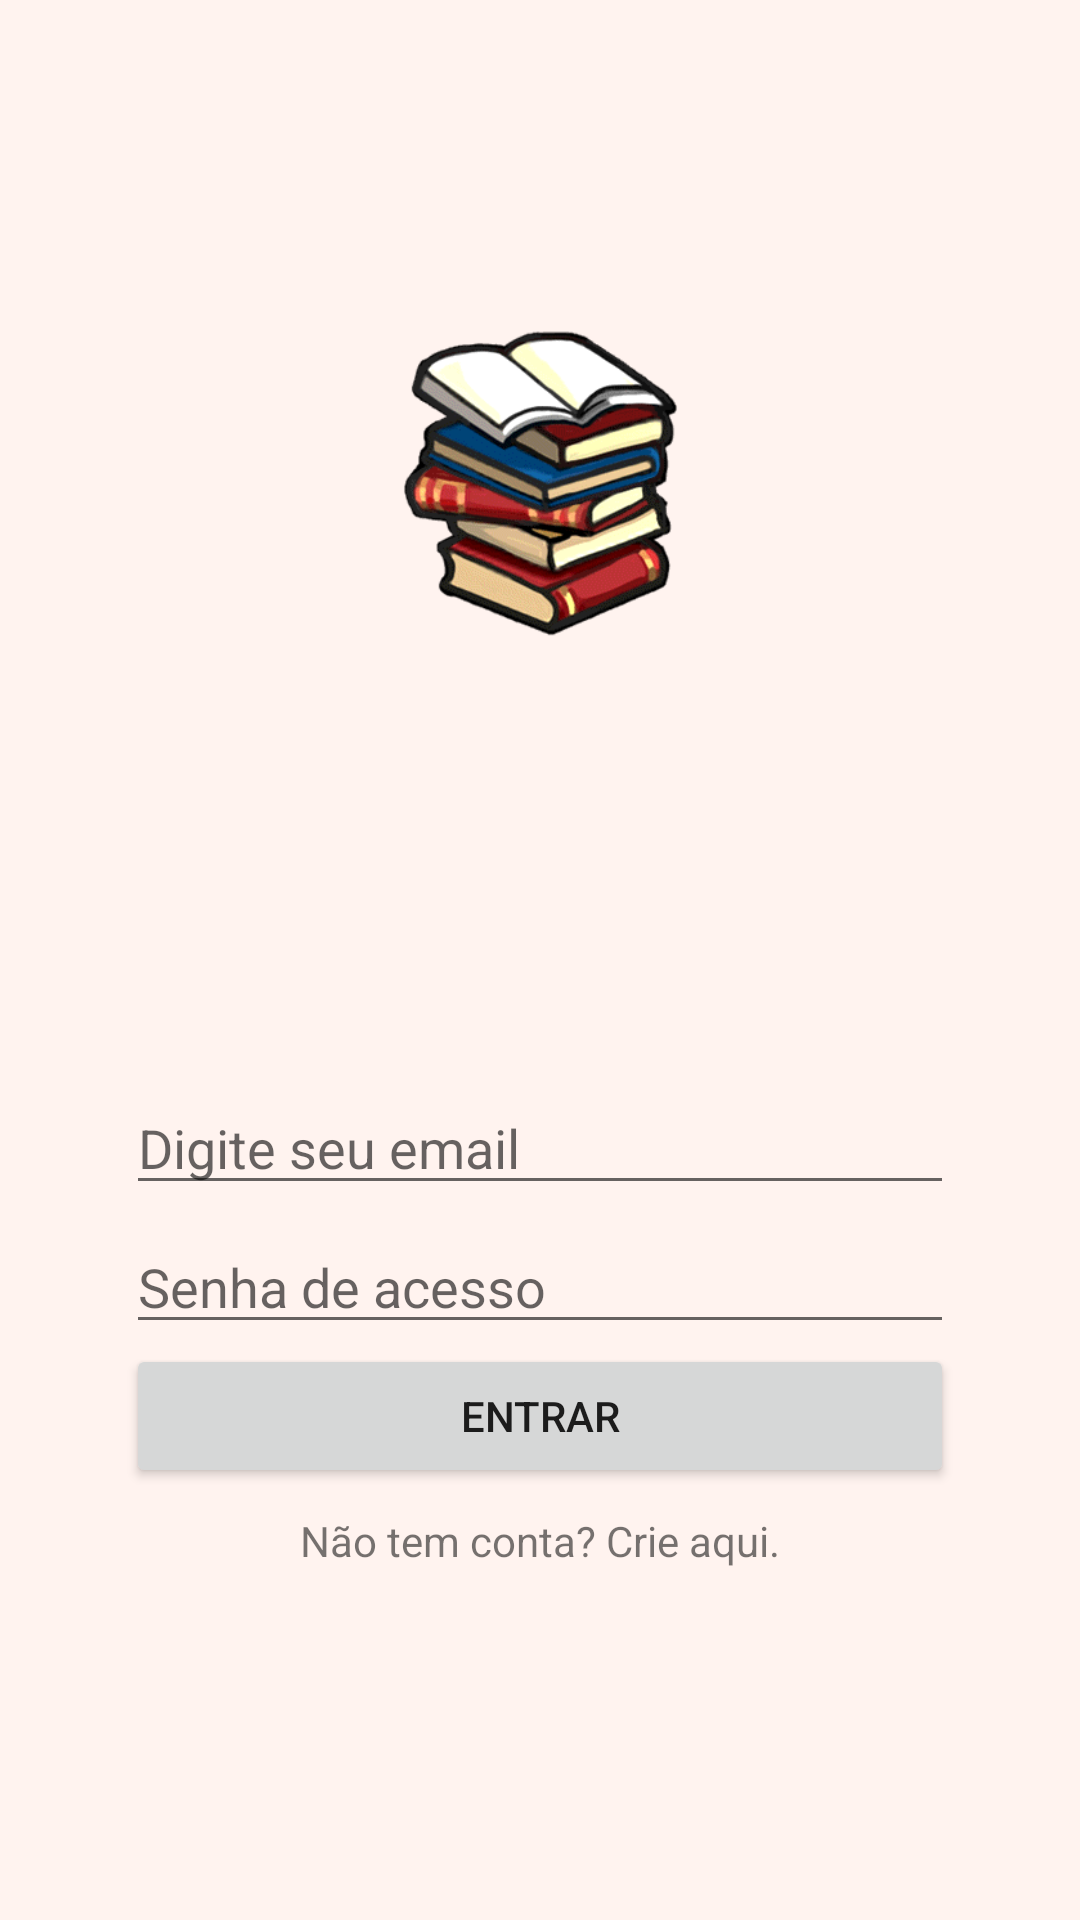

Named icons in this screenshot (1080 × 1920) and their bounding boxes, BBox(x1, y1, x2, y2):
Livros empilhados: BBox(404, 331, 677, 636)
